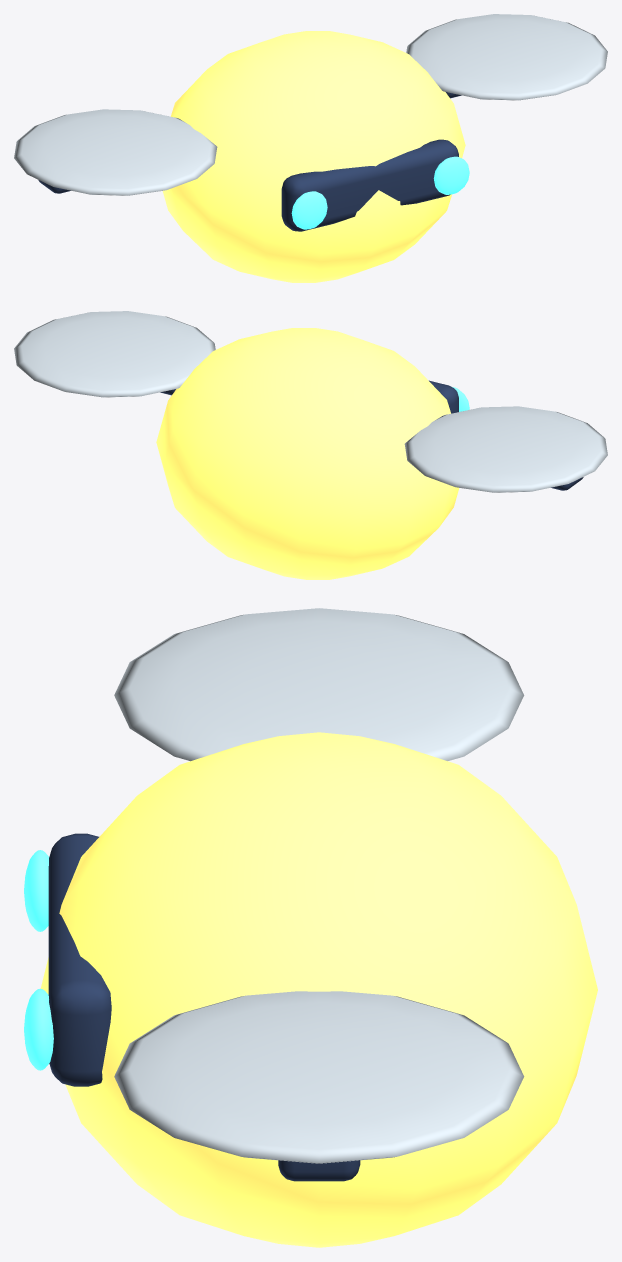
File: drone.glb
3 views of the same model, one above another, from view 1: azimuth 30°, elevation 25°; view 2: azimuth 150°, elevation 25°; view 3: azimuth 270°, elevation 25° (orthographic). The views are drawn at different scales.
Visible parts, largest first — view 1: Rescue drone, Rotor, Rotor.001, Drone visor, Drone eye, Drone eye.001; view 2: Rescue drone, Rotor, Rotor.001, Drone visor; view 3: Rescue drone, Rotor.001, Rotor, Drone visor, Drone eye.001, Drone eye, Rotor arm.001.
Boxes of the visible parts, bbox=[...] form: Rescue drone: bbox=[162, 31, 465, 282]; Rotor: bbox=[14, 109, 217, 195]; Rotor.001: bbox=[406, 14, 607, 100]; Drone visor: bbox=[281, 139, 458, 231]; Drone eye: bbox=[291, 191, 327, 229]; Drone eye.001: bbox=[433, 156, 469, 194]; Rescue drone: bbox=[156, 328, 459, 579]; Rotor: bbox=[404, 406, 607, 492]; Rotor.001: bbox=[14, 311, 215, 397]; Drone visor: bbox=[429, 380, 458, 413]; Rescue drone: bbox=[40, 732, 597, 1247]; Rotor.001: bbox=[114, 991, 524, 1163]; Rotor: bbox=[114, 608, 524, 761]; Drone visor: bbox=[48, 833, 111, 1086]; Drone eye.001: bbox=[24, 988, 53, 1070]; Drone eye: bbox=[24, 850, 49, 931]; Rotor arm.001: bbox=[278, 1160, 360, 1181].
Size of the model in its own units: 1.6 by 0.6 by 0.7.
